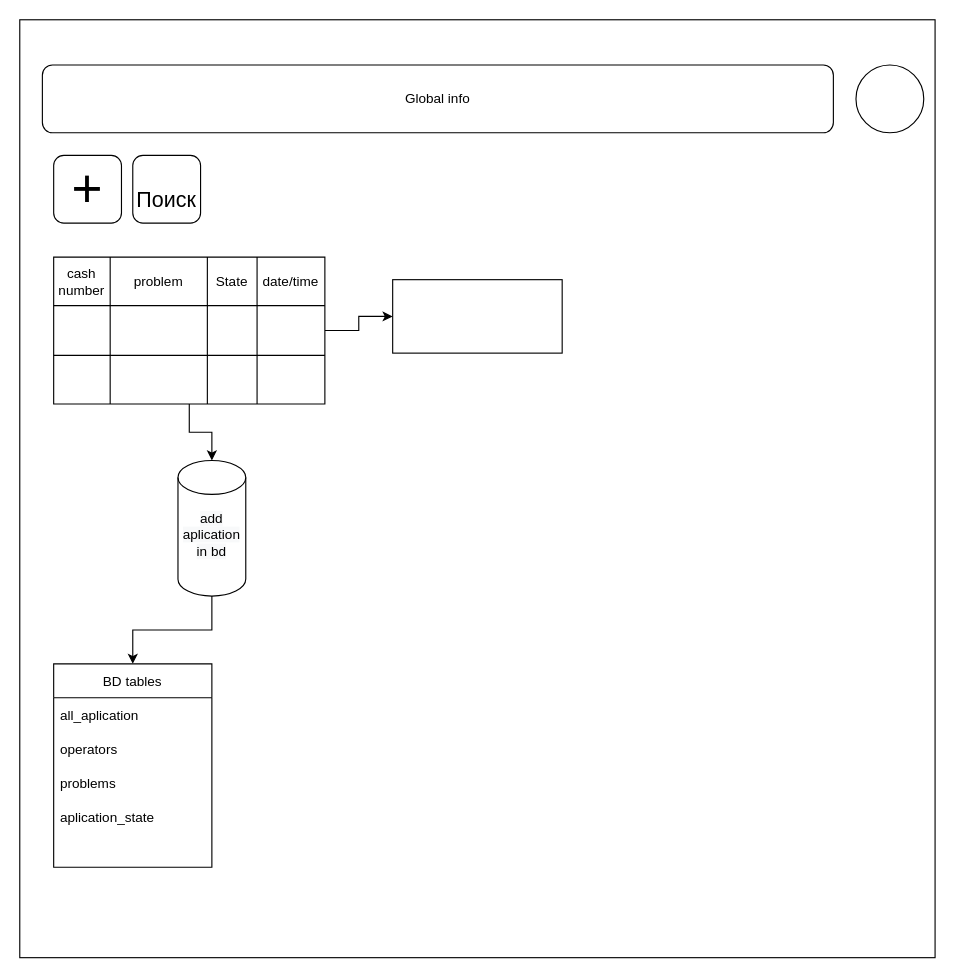
Image size: 955x977. Some labels were removed from this diagram. Here are the shapes that lost their labels. From the top down, the centre of each, then its label:
At (889,98): "operator".
At (477,316): "add colums with more information".
